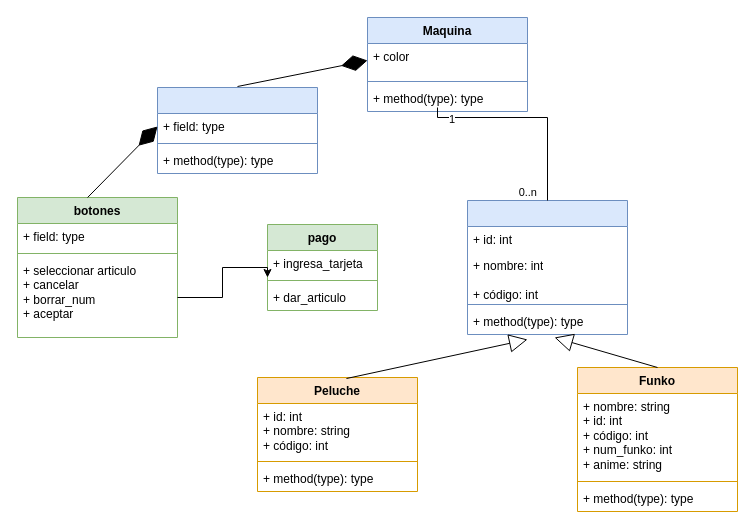
Some shapes in this 755 by 532 pixel diagram are drawn without their labels. Here are the shapes that lost their labels. From the top down, the box of each, then its label:
(156, 86, 318, 174): teclado
(466, 200, 628, 334): Articulos
